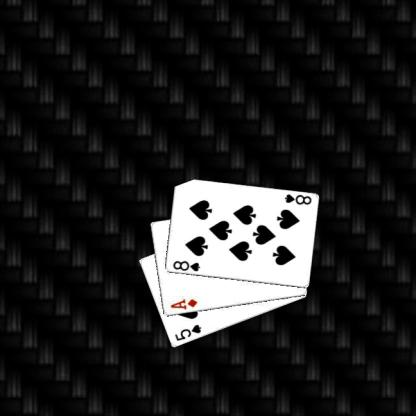5S: (172, 322, 202, 342)
8S: (170, 258, 201, 273), (282, 191, 312, 206)
AD: (168, 296, 198, 310)
